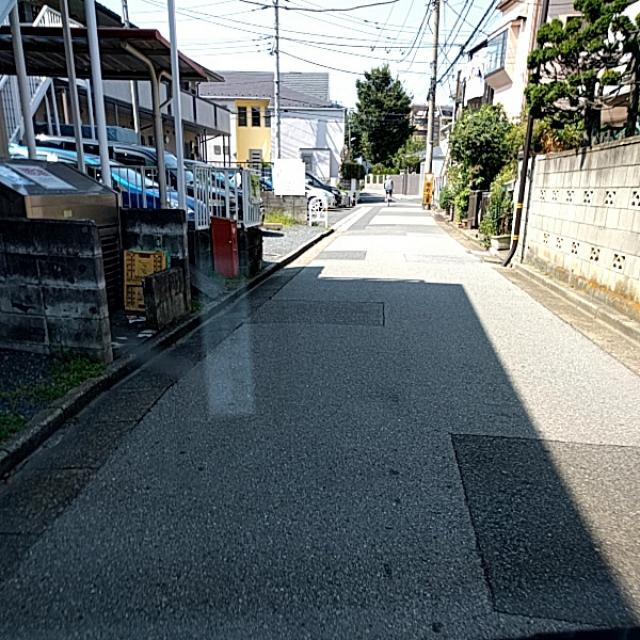pothole: (383, 450, 407, 554)
